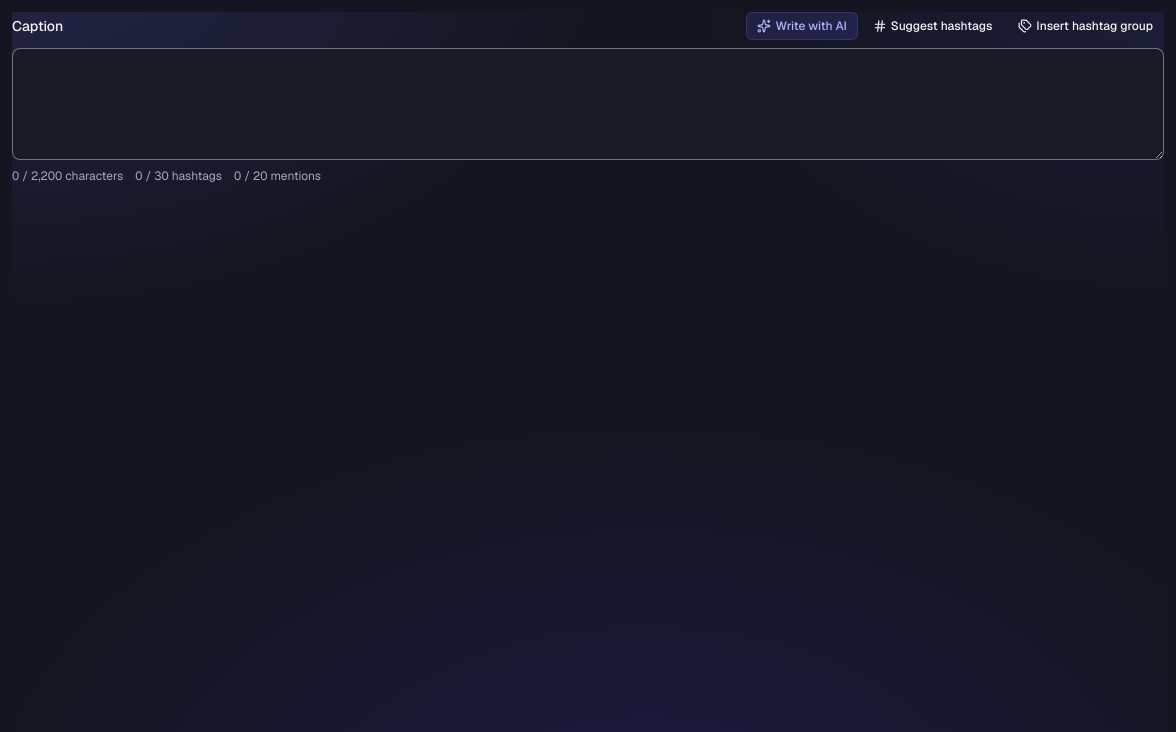
Test: CaptionField (UX-SCR-13, FR-PUB-10) › asks for a caption before suggesting hashtags
Click the button "Suggest hashtags": {"x": 933, "y": 26} x1=862 y1=12 x2=1003 y2=40
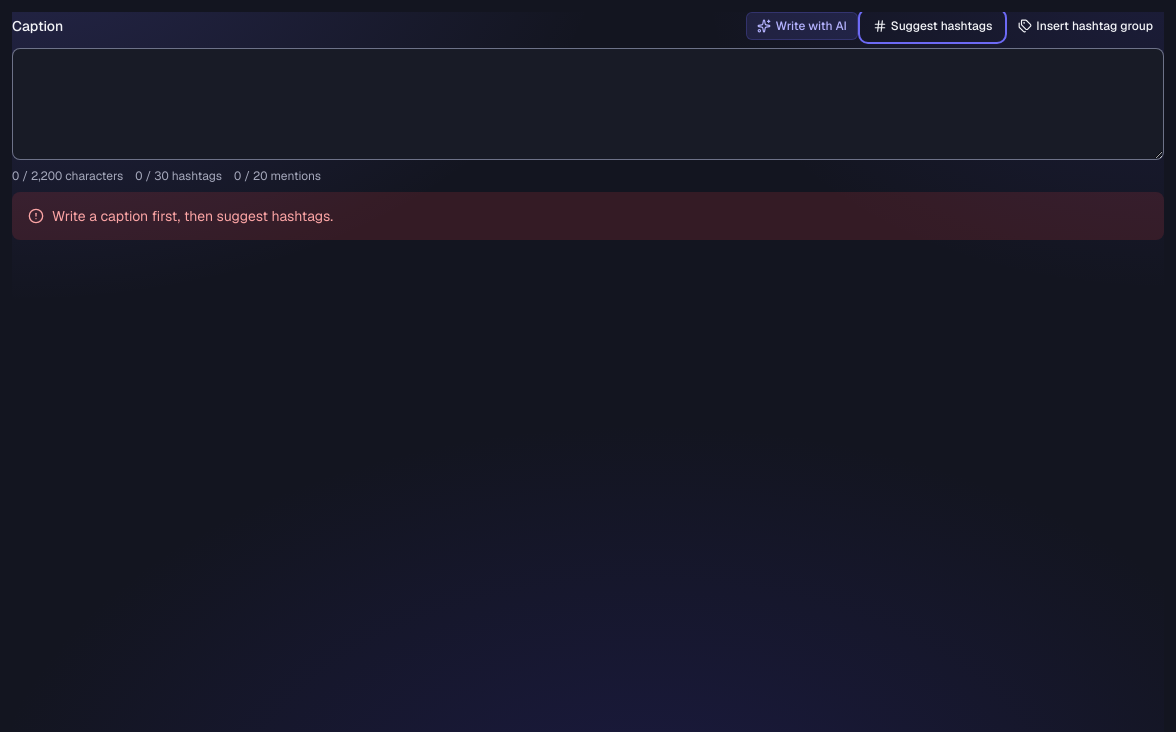
Check: the message reads "Write a caption first, then suggest hashtags.", box x1=52 y1=207 x2=333 y2=225
